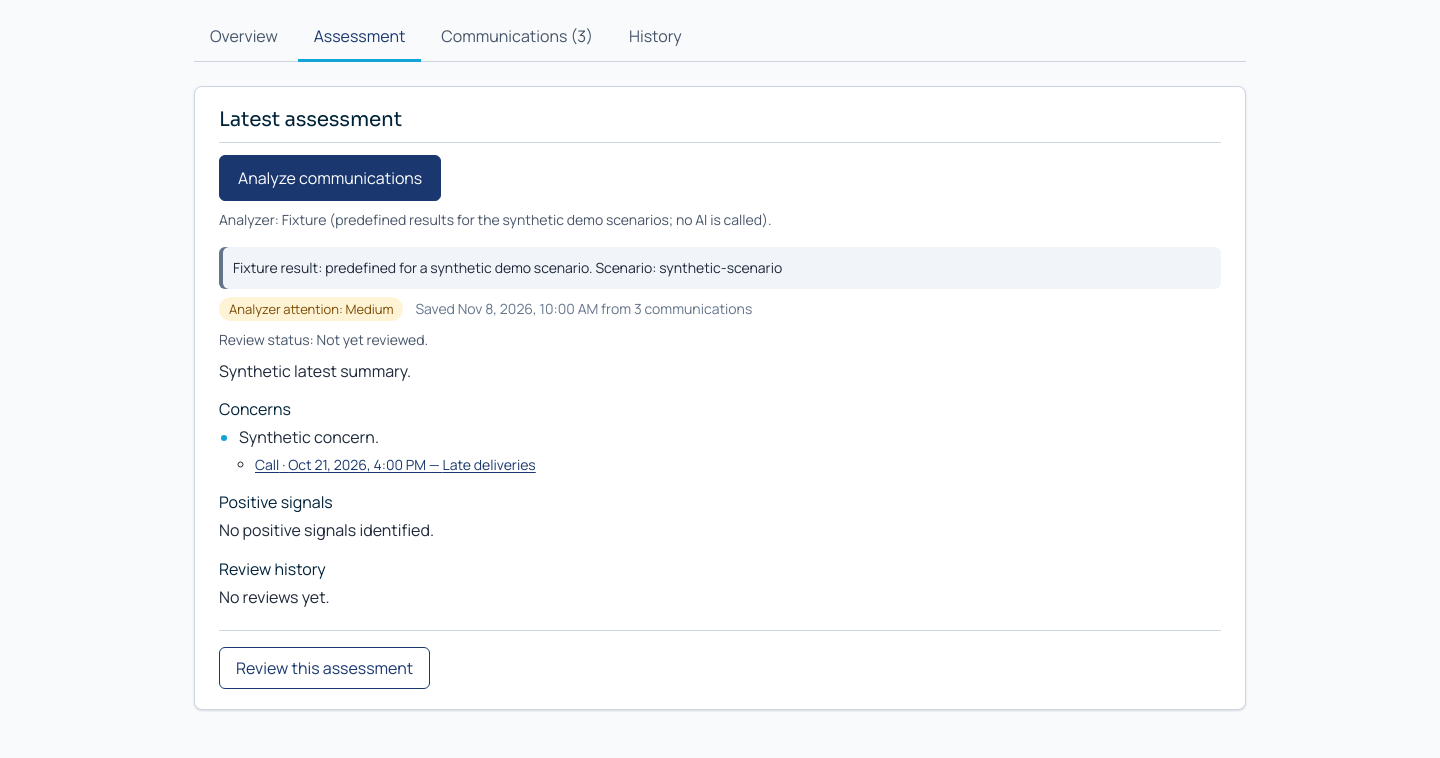
Scenario: client view › keeps the review form closed until it is asked for
This screenshot has width=1440, height=758.
(page scrolled)
expect the element "Decision" is not shown: met
Step 1. Click the button "Review this assessment" → (325, 668), box [219, 646, 430, 689]
(page scrolled)
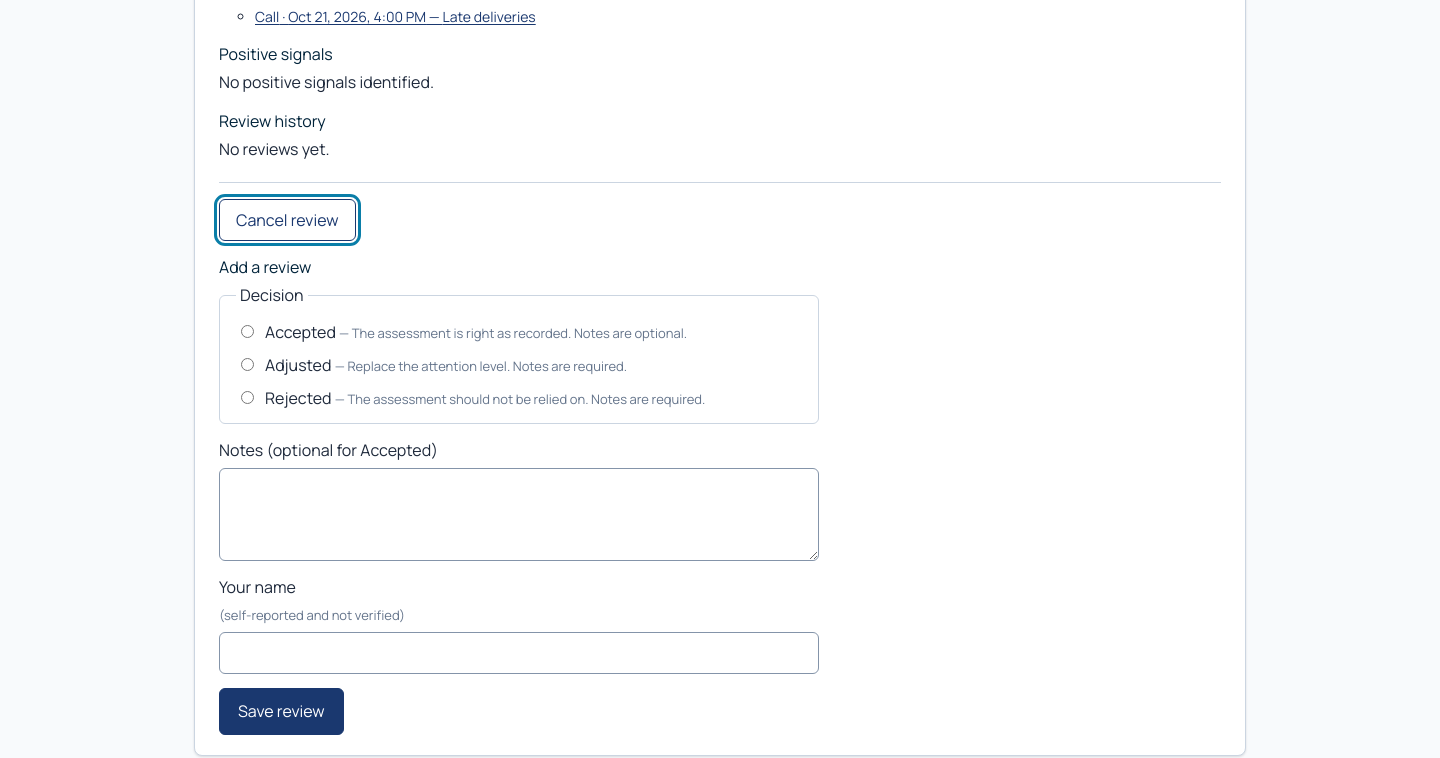
expect the button "Cancel review" is expanded: met, box [219, 198, 356, 241]
expect the element "Decision" is shown: met, box [219, 283, 819, 424]
